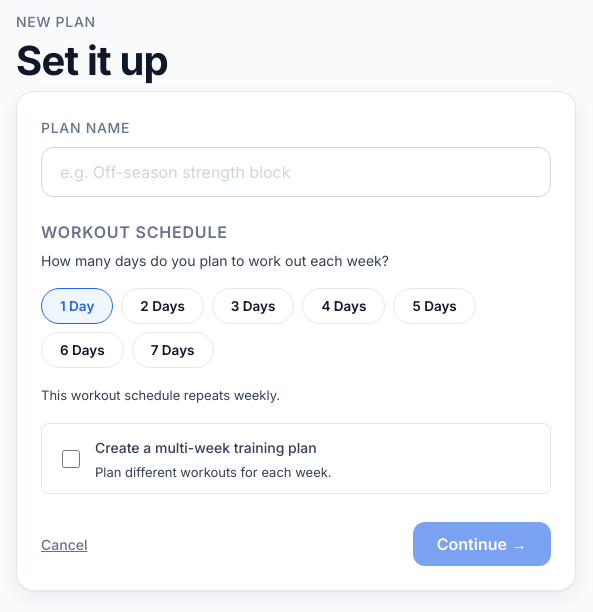
it: CreatePlanStep1 plan name limits › blocks typing a 9th word into the plan name input (max 8 words)
In the field labelled "Plan name": (296, 172) [41,147,551,197], type "one two three four five six seven eight nine"
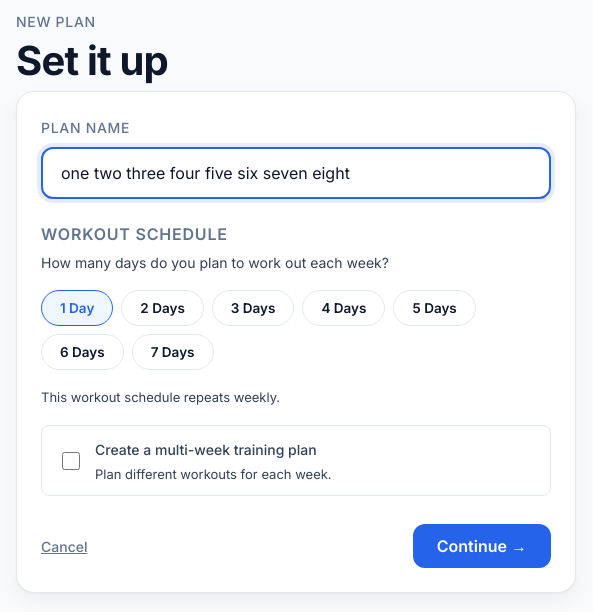
Check: the field labelled "Plan name" holds "one two three four five six seven eight ", box [41,147,551,199]
